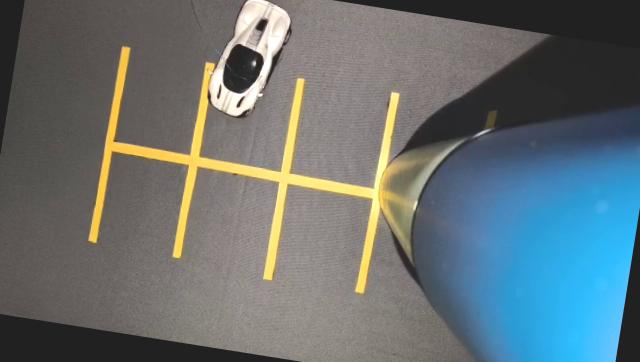toy_car: (187, 0, 320, 135)
